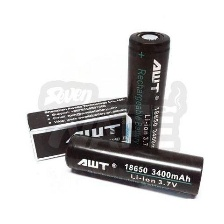battery: (62, 128, 207, 200), (123, 25, 173, 157)
book: (24, 92, 148, 165)
